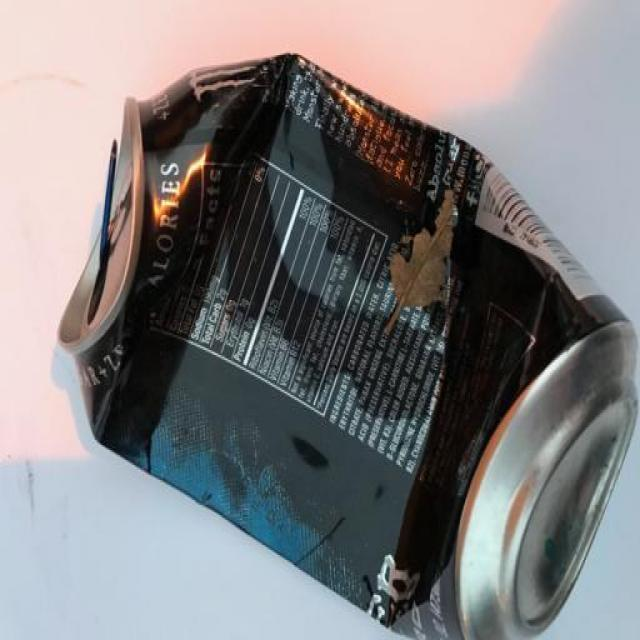metel: (48, 42, 640, 640)
